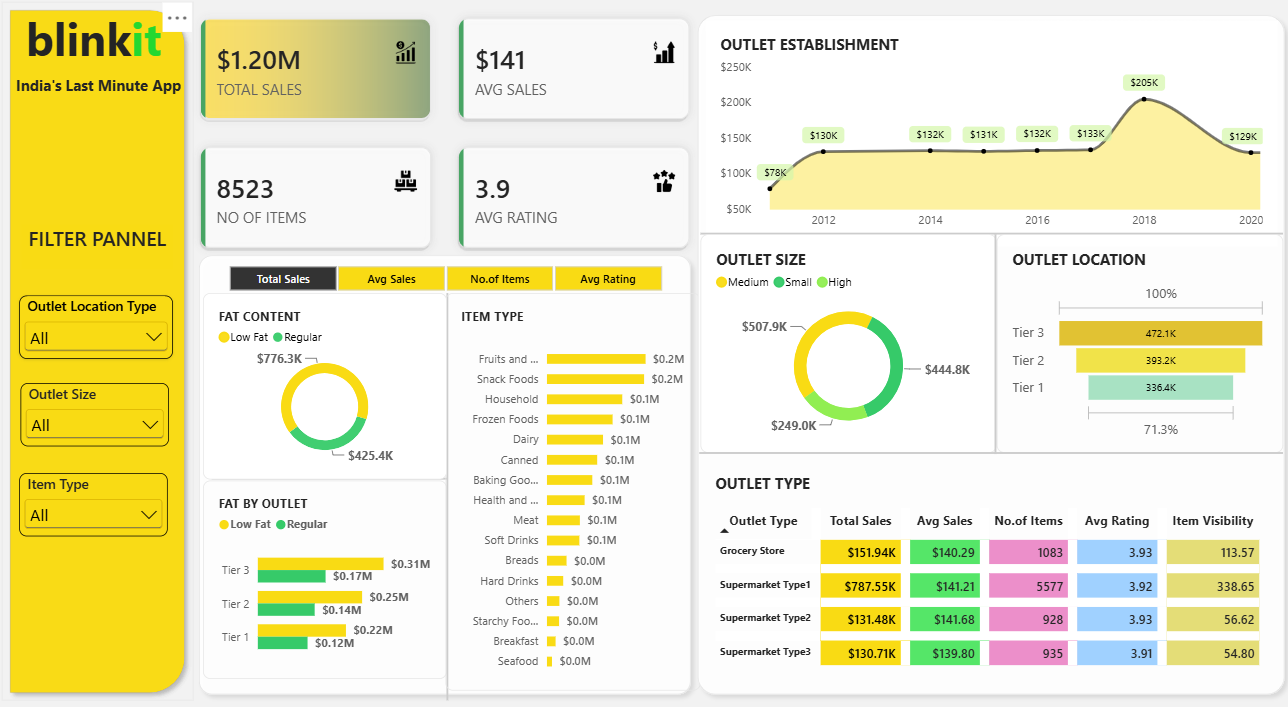

The page's visual inventory and layout, read from the dashboard file:
{"tool":"powerbi","page":{"name":"Page 1","canvas":[1400,800],"ordinal":0},"visuals":[{"type":"shape","box":[13.4,24.1,205,750],"z":0},{"type":"textbox","box":[36.2,32.2,154.2,72.4],"z":1000},{"type":"textbox","box":[28.2,87.1,172.9,36.2],"z":2000},{"type":"cardVisual","fields":{"Data":["BlinkIT Grocery Data.Total Sales","BlinkIT Grocery Data.Avg Sales","BlinkIT Grocery Data.No.of Items","BlinkIT Grocery Data.Avg Rating"]},"box":[217.2,18.8,570,270],"z":3000},{"type":"shape","box":[218.6,288.6,568.6,484.3],"z":4000},{"type":"donutChart","title":"FAT CONTENT","fields":{"Category":["BlinkIT Grocery Data.Item Fat Content"],"Y":["BlinkIT Grocery Data.Avg Rating"]},"box":[241.1,336.7,251.3,206.6],"z":5000},{"type":"slicer","fields":{"Values":["Metrics.Metrics"]},"box":[239.5,306.6,502.6,30.3],"z":6000},{"type":"cardVisual","fields":{"Data":["BlinkIT Grocery Data.Avg Rating"]},"box":[313.8,426.9,102.2,82.2],"z":7000},{"type":"clusteredBarChart","title":"FAT BY OUTLET","fields":{"Category":["BlinkIT Grocery Data.Outlet Location Type"],"Series":["BlinkIT Grocery Data.Item Fat Content"],"Y":["BlinkIT Grocery Data.Avg Rating"]},"box":[240.8,536.8,251.3,211.8],"z":8000},{"type":"shape","box":[240.5,402.5,253.2,269.6],"z":9000},{"type":"shape","box":[367.1,329.1,250.6,426.6],"z":10000},{"type":"barChart","title":"ITEM TYPE","fields":{"Category":["BlinkIT Grocery Data.Item Type"],"Y":["BlinkIT Grocery Data.Avg Rating"]},"box":[491.1,336.7,286.1,426.6],"z":11000},{"type":"shape","box":[777.1,18.6,608.6,754.3],"z":12000},{"type":"lineChart","title":"OUTLET ESTABLISHMENT","fields":{"Category":["BlinkIT Grocery Data.Outlet Establishment Year"],"Y":["BlinkIT Grocery Data.Total Sales"]},"box":[797.1,32.9,568.6,241.4],"z":13000},{"type":"shape","box":[787.1,138.6,588.6,270],"z":14000},{"type":"donutChart","title":"OUTLET SIZE","fields":{"Category":["BlinkIT Grocery Data.Outlet Size"],"Y":["BlinkIT Grocery Data.Total Sales"]},"box":[787.1,274.3,294.3,235.7],"z":15000},{"type":"funnel","title":"OUTLET LOCATION","fields":{"Category":["BlinkIT Grocery Data.Outlet Location Type"],"Y":["Sum(BlinkIT Grocery Data.Sales)"]},"box":[1081.4,274.3,284.3,235.7],"z":16000},{"type":"shape","box":[1048.6,274.3,64.3,235.7],"z":17000},{"type":"pivotTable","title":"OUTLET TYPE","fields":{"Rows":["BlinkIT Grocery Data.Outlet Type"],"Values":["BlinkIT Grocery Data.Total Sales","BlinkIT Grocery Data.Avg Sales","BlinkIT Grocery Data.No.of Items","BlinkIT Grocery Data.Avg Rating","Sum(BlinkIT Grocery Data.Item Visibility)"]},"box":[791.4,515.7,574.3,261.4],"z":18000},{"type":"shape","box":[791.4,502.9,578.6,12.9],"z":19000},{"type":"slicer","fields":{"Values":["BlinkIT Grocery Data.Outlet Location Type"]},"box":[28.6,277.1,172.9,300],"z":19001}]}

Visuals, with their boxes on the page's 1400x800 design canvas (x1, y1, x2, y2). These are canvas units, not pixel positions in the 1288x707 screenshot, which may show the page scaled, cropped or inside an application window:
shape: [13,24,218,774]
textbox: [36,32,190,105]
textbox: [28,87,201,123]
cardVisual - BlinkIT Grocery Data.Total Sales x BlinkIT Grocery Data.Avg Sales: [217,19,787,289]
shape: [219,289,787,773]
"FAT CONTENT" donutChart: [241,337,492,543]
slicer - Metrics.Metrics: [240,307,742,337]
cardVisual - BlinkIT Grocery Data.Avg Rating: [314,427,416,509]
"FAT BY OUTLET" clusteredBarChart: [241,537,492,749]
shape: [240,402,494,672]
shape: [367,329,618,756]
"ITEM TYPE" barChart: [491,337,777,763]
shape: [777,19,1386,773]
"OUTLET ESTABLISHMENT" lineChart: [797,33,1366,274]
shape: [787,139,1376,409]
"OUTLET SIZE" donutChart: [787,274,1081,510]
"OUTLET LOCATION" funnel: [1081,274,1366,510]
shape: [1049,274,1113,510]
"OUTLET TYPE" pivotTable: [791,516,1366,777]
shape: [791,503,1370,516]
slicer - BlinkIT Grocery Data.Outlet Location Type: [29,277,202,577]
